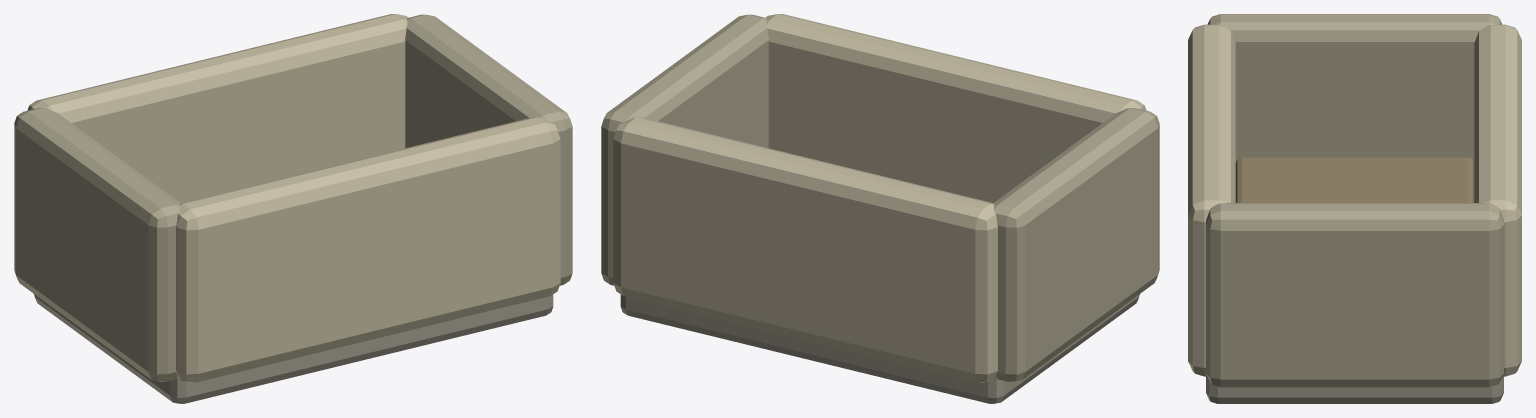
Rendered from Cracked_Planter_Barren.glb.
3 renders of one model, left to right at view 1: azimuth 30°, elevation 25°; view 2: azimuth 150°, elevation 25°; view 3: azimuth 270°, elevation 25°, orthographic.
Parts seen in each view (by area): view 1: Structure; view 2: Structure; view 3: Structure.
Part boxes in pixels (box(x1,y1,x2,y2)): Structure: box(14, 14, 572, 403); Structure: box(601, 14, 1159, 403); Structure: box(1188, 14, 1521, 403).
Bounding box in the file's own units: 1.66 × 0.745 × 1.12.
